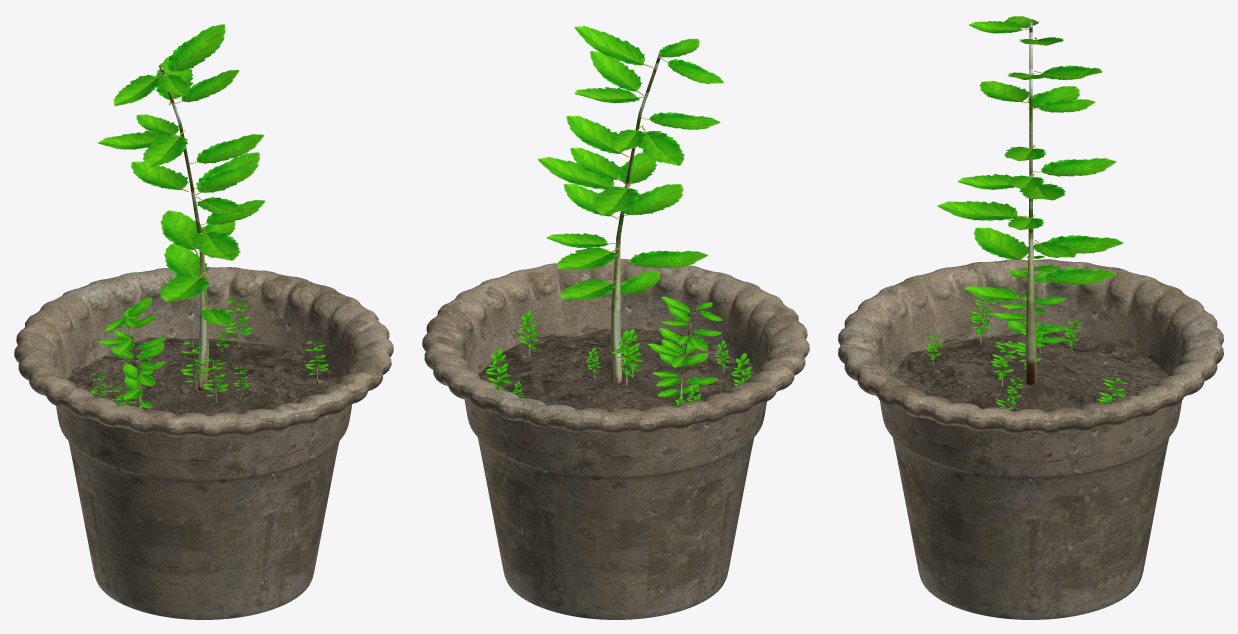
File: tulsi_tree_on_a_cement_tub.glb
3 renders of one model, left to right at view 1: azimuth 30°, elevation 25°; view 2: azimuth 150°, elevation 25°; view 3: azimuth 270°, elevation 25°, orthographic. The views are drawn at different scales.
Visible parts, largest first — view 1: tub_0, bit tulsi tree_2, mud_1, tulsi tree small_3; view 2: tub_0, bit tulsi tree_2, mud_1, tulsi tree small_3; view 3: tub_0, bit tulsi tree_2, mud_1, tulsi tree small_3.
Boxes of the visible parts, <box> form: tub_0: <box>14,267,393,619</box>; bit tulsi tree_2: <box>98,24,265,390</box>; mud_1: <box>68,337,340,415</box>; tulsi tree small_3: <box>90,297,328,408</box>; tub_0: <box>422,259,809,619</box>; bit tulsi tree_2: <box>537,26,723,385</box>; mud_1: <box>478,328,756,411</box>; tulsi tree small_3: <box>485,296,751,407</box>; tub_0: <box>838,259,1223,619</box>; bit tulsi tree_2: <box>937,16,1123,384</box>; mud_1: <box>891,329,1169,411</box>; tulsi tree small_3: <box>926,250,1127,409</box>.
Bounding box in the file's own units: 0.9649 × 1.51 × 0.9649.
4 materials, 4 textured.
